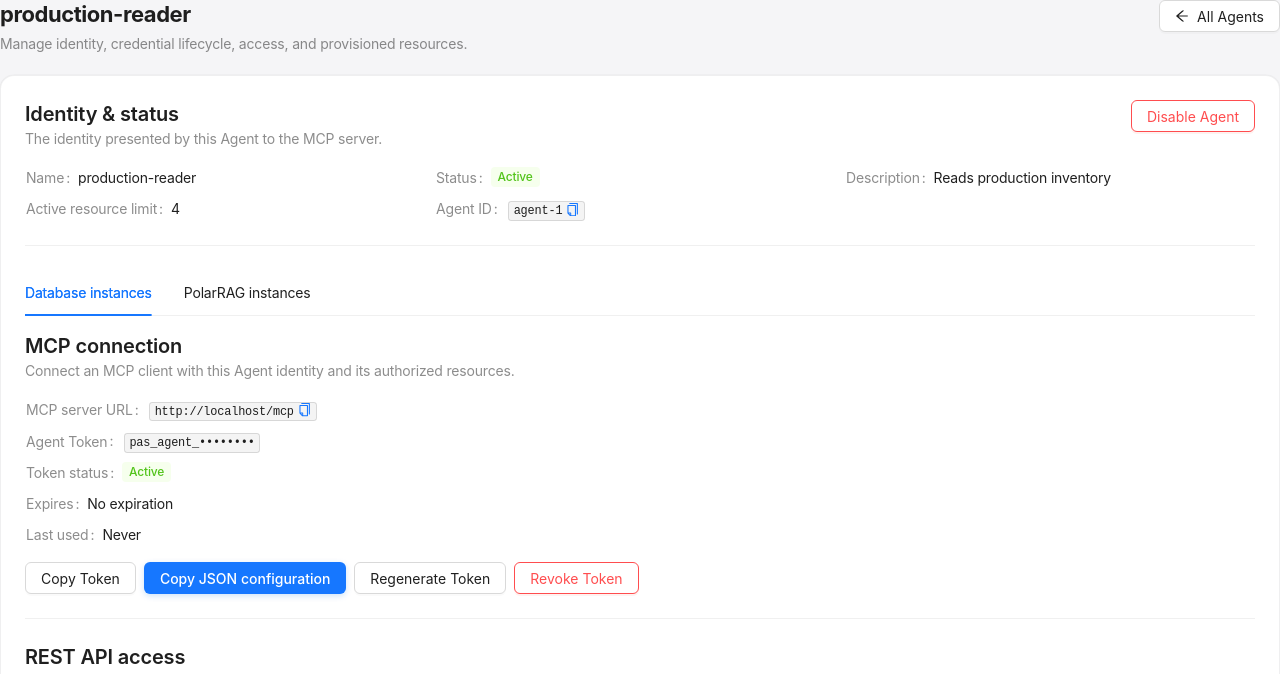
Agent detail page › regenerates a token only after destructive confirmation without exposing plaintext
The image size is (1280, 674).
Expected: the text "pas_agent_••••••••" is shown, [124,433,260,453]
Click the button "Regenerate Token" at [430, 578], box [354,562,506,594]
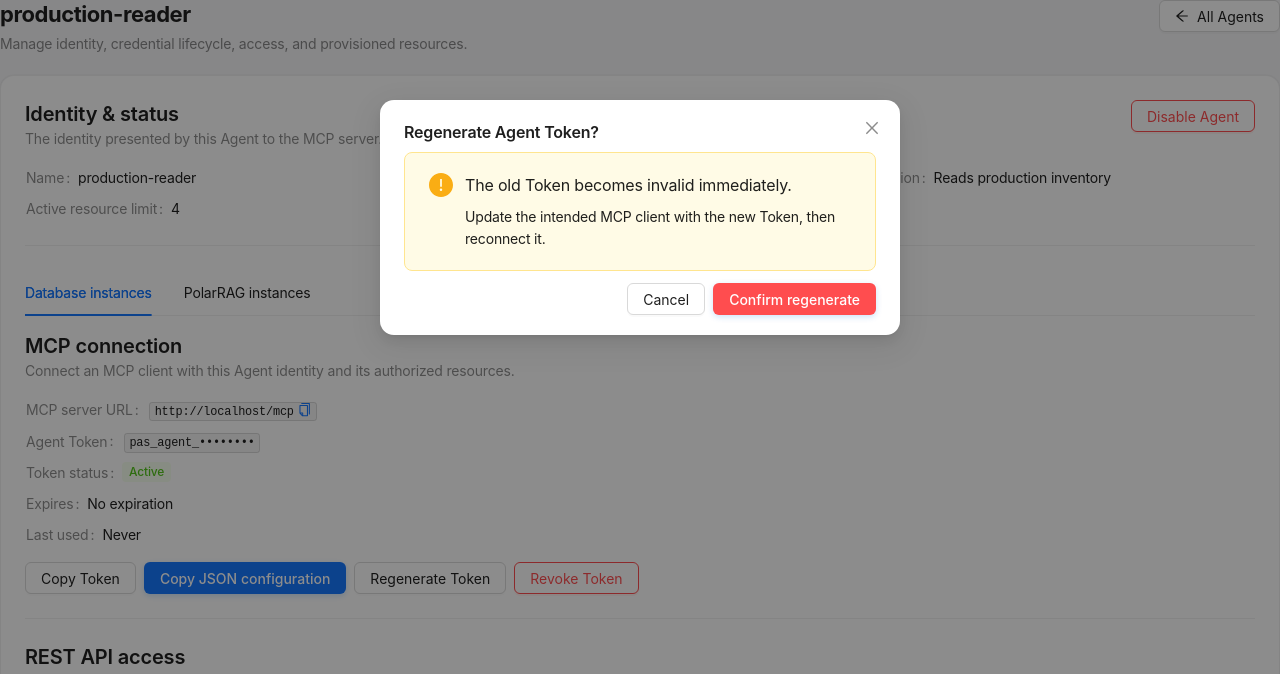
Expected: the text "The old Token becomes invalid immediately." is shown, [465,175,792,195]
Click the button "Confirm regenerate" at [795, 299], box [713,283,876,315]
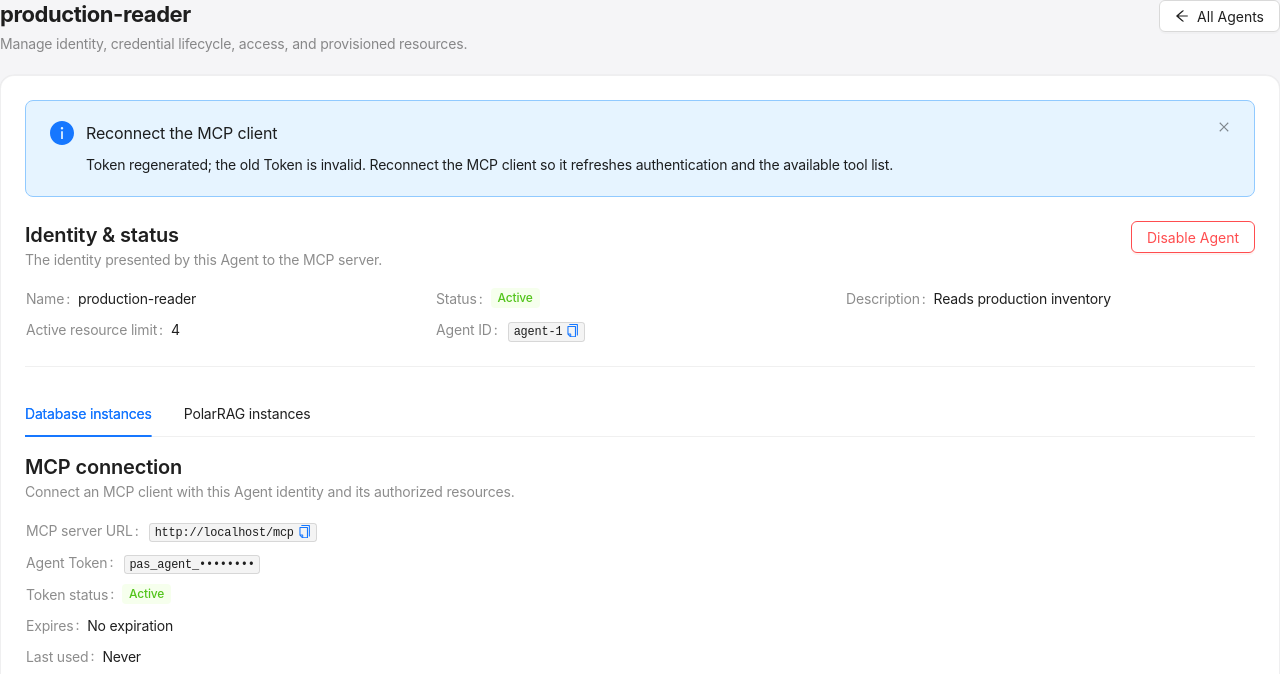
Expected: the text "pas_agent_••••••••" is shown, [124,554,260,574]
Expected: the message shows "Reconnect the MCP client", [86,123,277,143]
